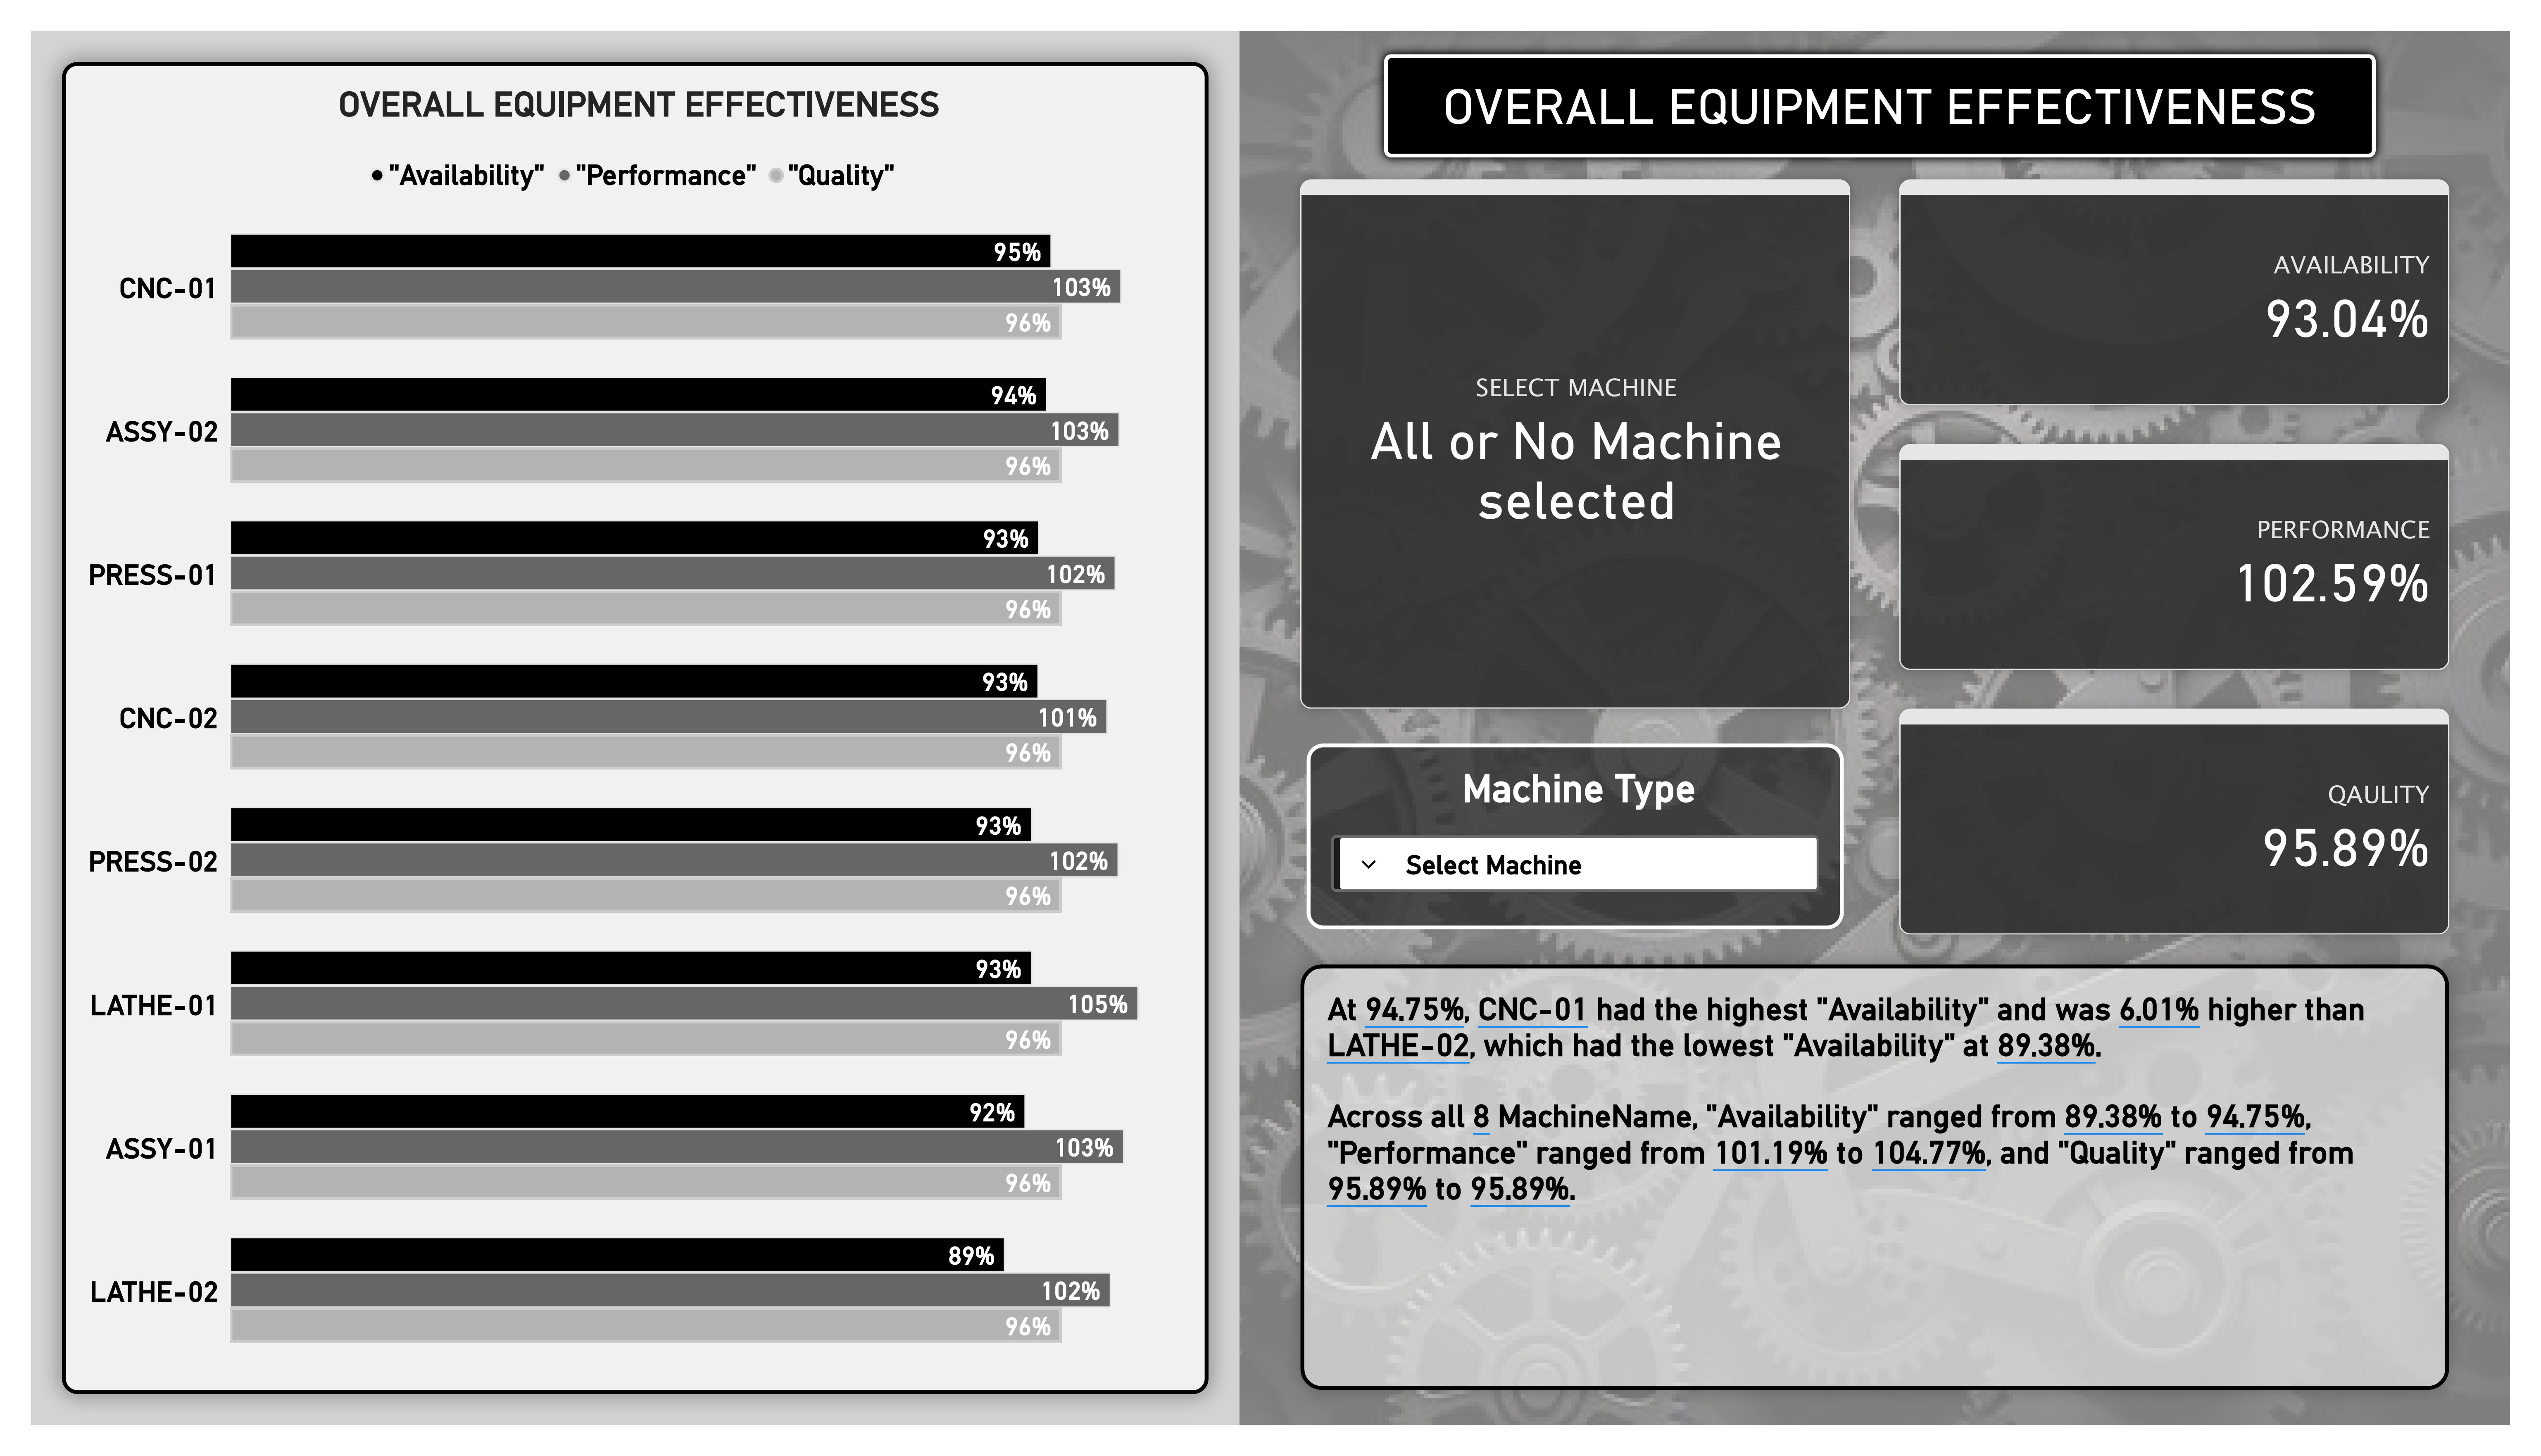

Layout of this report page (visuals, bound fields, positions):
{"tool":"powerbi","page":{"name":"OEE","canvas":[1920,1080],"ordinal":5},"visuals":[{"type":"cardVisual","fields":{"Data":["1 Basic Production Measures.AVAILABILITY","2 Quality Analysis.PERFORMANCE","2 Quality Analysis.QAULITY"]},"box":[1436,104,448,608],"z":0,"group":"g2"},{"type":"shape","box":[972,712,912,352],"z":0,"group":"g1"},{"type":"image","box":[936,0,984,1080],"z":1000},{"type":"cardVisual","fields":{"Data":["1 Basic Production Measures.SELECT MACHINE"]},"box":[972,104,448,432],"z":1000,"group":"g2"},{"type":"listSlicer","fields":{"Values":["DimMachine.MachineName"]},"box":[988,552,416,144],"z":2000,"group":"g2"},{"type":"clusteredBarChart","title":"OVERALL EQUIPMENT EFFECTIVENESS","fields":{"Category":["DimMachine.MachineName"],"Y":["1 Basic Production Measures.AVAILABILITY","2 Quality Analysis.PERFORMANCE","2 Quality Analysis.QAULITY"]},"box":[24,24,888,1032],"z":3000},{"type":"textbox","box":[1004,744,848,288],"z":3000,"group":"g2"},{"type":"group","id":"g1","title":"Group 1","box":[972,712,912,352],"z":5001,"group":"g3"},{"type":"group","id":"g2","title":"Group 2","box":[972,104,912,928],"z":22002,"group":"g3"},{"type":"group","id":"g3","title":"Group 3","box":[972,104,912,960],"z":22003},{"type":"shape","box":[1040,10,784,96],"z":22004}]}

Visuals, with their boxes on the page's 1920x1080 design canvas (x1, y1, x2, y2). These are canvas units, not pixel positions in the 2541x1456 screenshot, which may show the page scaled, cropped or inside an application window:
cardVisual - 1 Basic Production Measures.AVAILABILITY x 2 Quality Analysis.PERFORMANCE: locate(1436, 104, 1884, 712)
shape: locate(972, 712, 1884, 1064)
image: locate(936, 0, 1920, 1080)
cardVisual - 1 Basic Production Measures.SELECT MACHINE: locate(972, 104, 1420, 536)
listSlicer - DimMachine.MachineName: locate(988, 552, 1404, 696)
"OVERALL EQUIPMENT EFFECTIVENESS" clusteredBarChart: locate(24, 24, 912, 1056)
textbox: locate(1004, 744, 1852, 1032)
"Group 1" group: locate(972, 712, 1884, 1064)
"Group 2" group: locate(972, 104, 1884, 1032)
"Group 3" group: locate(972, 104, 1884, 1064)
shape: locate(1040, 10, 1824, 106)
